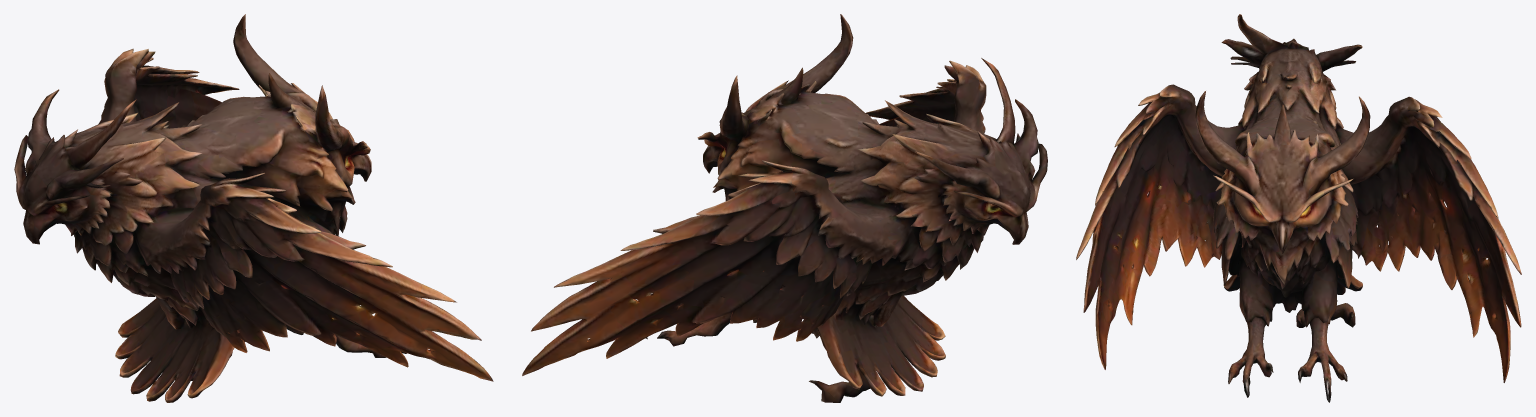
Rendered from grassland-brute.glb.
The picture shows the model from 3 angles, left to right: view 1: azimuth 30°, elevation 25°; view 2: azimuth 150°, elevation 25°; view 3: azimuth 270°, elevation 25°; orthographic projection. The views are drawn at different scales.
Parts seen in each view (by area): view 1: tripo_node_a4de0855-9a8a-452c-81cf-5f4139642039; view 2: tripo_node_a4de0855-9a8a-452c-81cf-5f4139642039; view 3: tripo_node_a4de0855-9a8a-452c-81cf-5f4139642039.
Boxes of the visible parts, <box> form: tripo_node_a4de0855-9a8a-452c-81cf-5f4139642039: <box>14,14,493,402</box>; tripo_node_a4de0855-9a8a-452c-81cf-5f4139642039: <box>522,14,1047,402</box>; tripo_node_a4de0855-9a8a-452c-81cf-5f4139642039: <box>1076,14,1521,402</box>.
Size of the model in its own units: 0.8535 by 0.6827 by 1.
1 material, 1 textured.
